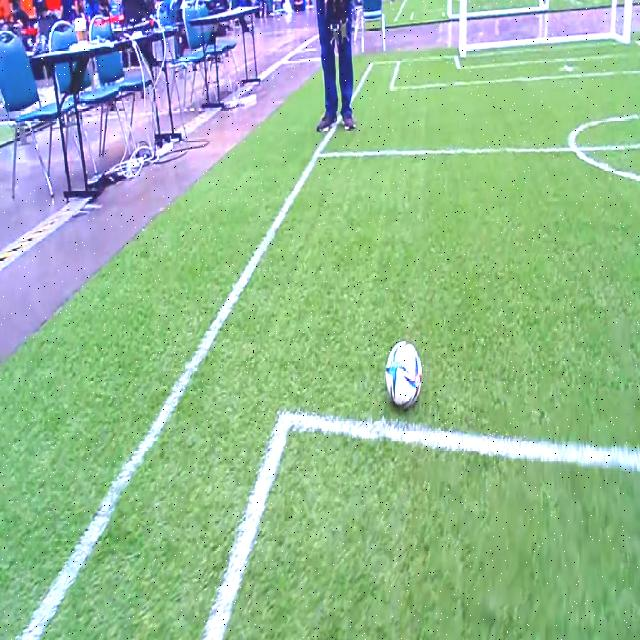ball: (387, 341, 422, 406)
